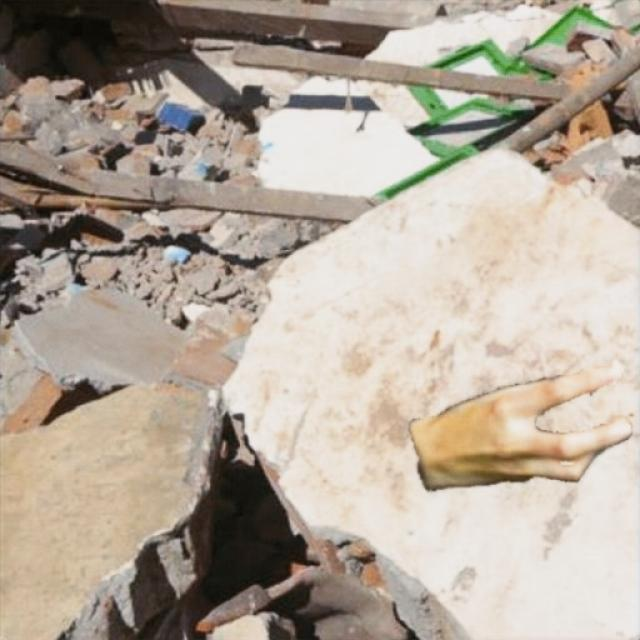Person in Rubble: (408, 360, 632, 490)
